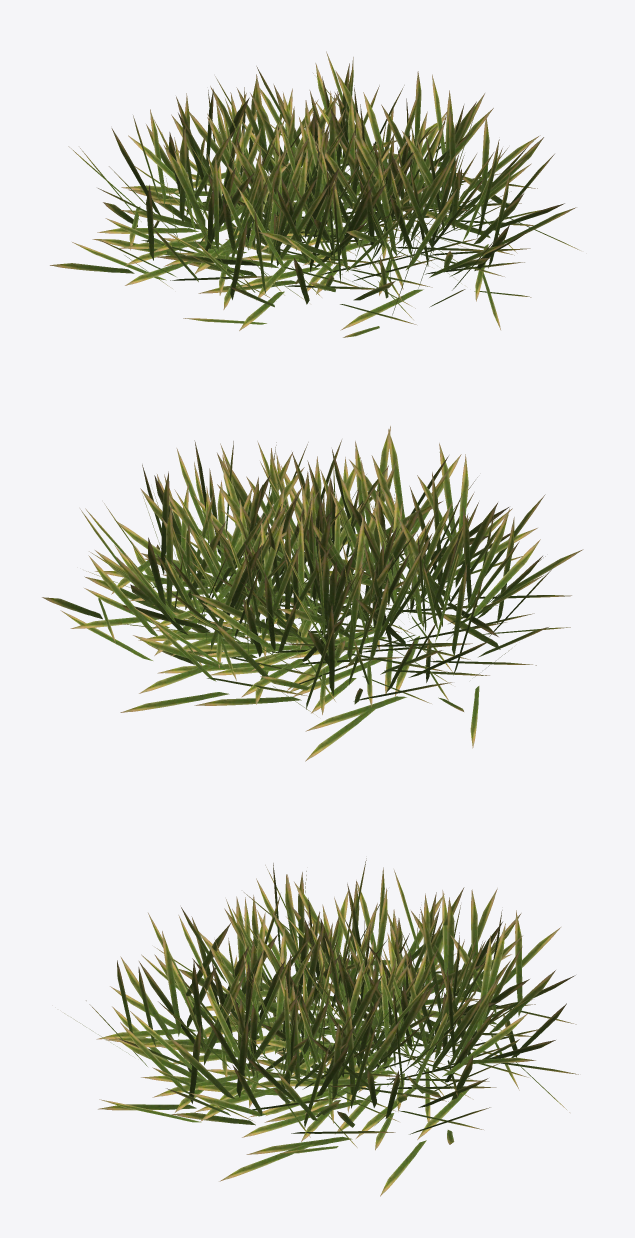
Rendered from grass-tall.lod0.glb.
The picture shows the model from 3 angles, top to bottom: view 1: azimuth 30°, elevation 25°; view 2: azimuth 150°, elevation 25°; view 3: azimuth 270°, elevation 25°; orthographic projection. The views are drawn at different scales.
Visible parts, largest first — view 1: Object_2; view 2: Object_2; view 3: Object_2.
Boxes of the visible parts, left/top/right/bottom form: Object_2: left=50, top=51, right=580, bottom=337; Object_2: left=42, top=426, right=583, bottom=761; Object_2: left=64, top=858, right=578, bottom=1196.
Bounding box in the file's own units: 2.25 × 0.7999 × 2.2.
1 material, 1 textured.
